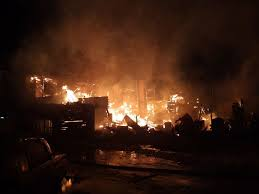fire: (33, 62, 216, 138)
